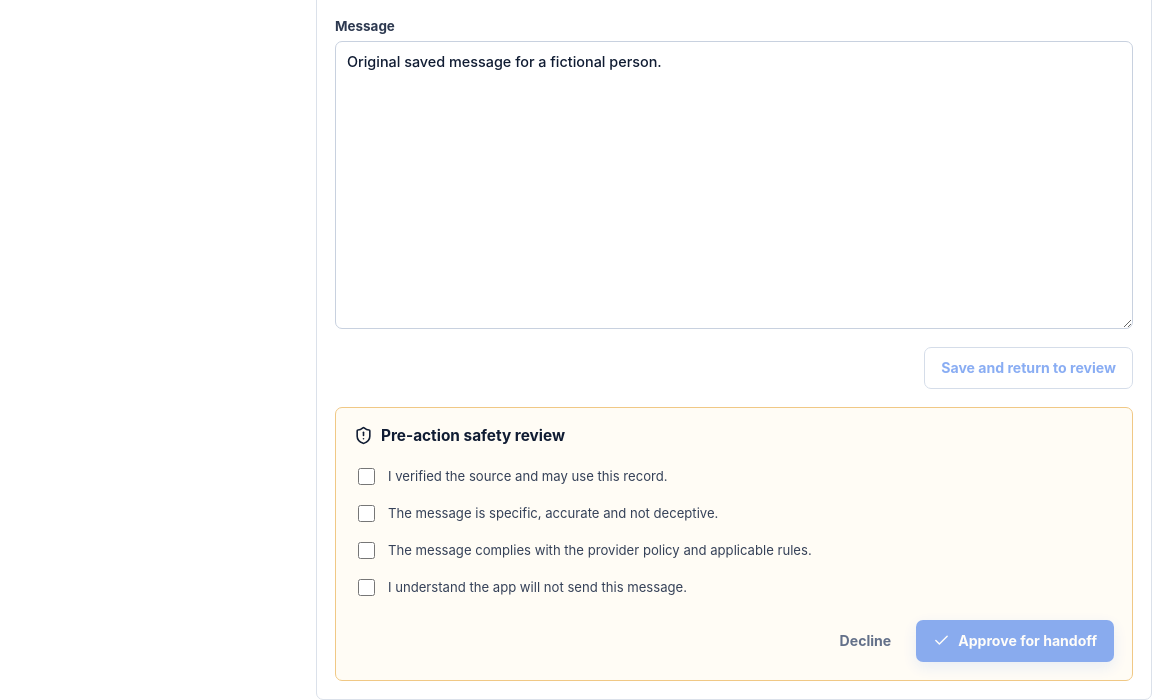
Scenario: version-bound personal draft saving › sends the viewed edit version and accepts only an exact saved message
(page scrolled)
Expected: the text box labelled "Message" is shown, [335,41,1133,329]
Expected: the button "Save and return to review" is disabled, [924,347,1133,389]
Step 1. Click the checkbox labelled "I verified the source and may use this record." → [366, 476], box [358,468,375,485]
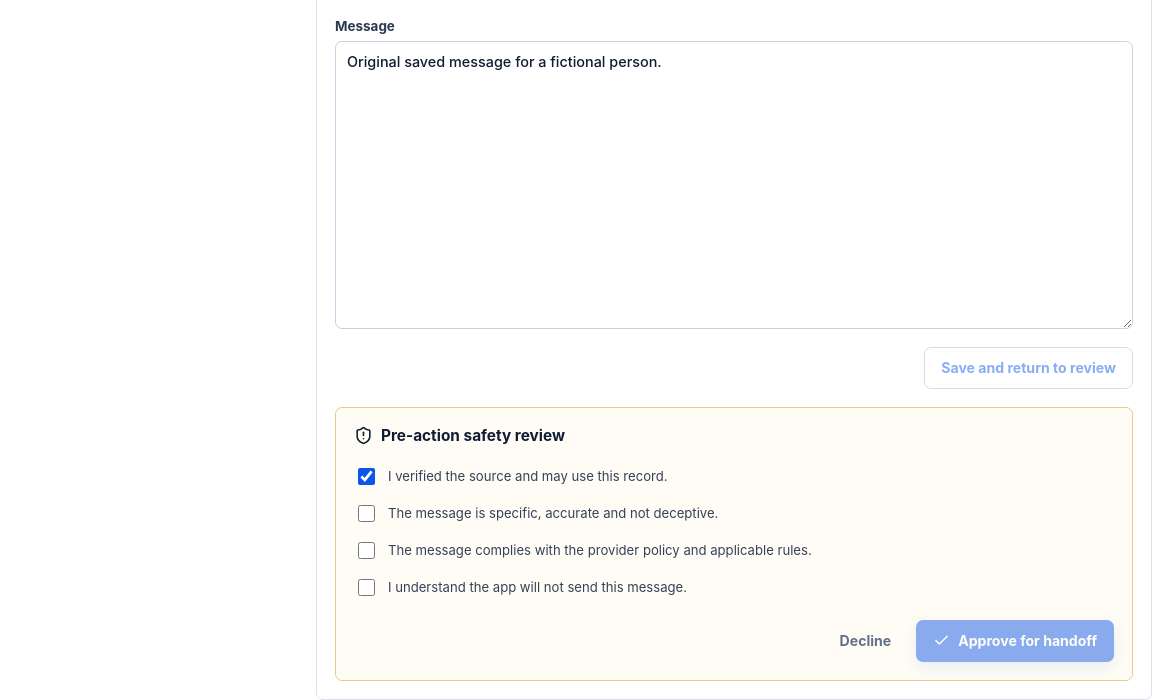
Step 2. Click the checkbox labelled "The message is specific, accurate and not deceptive." → [366, 513], box [358,505,375,522]
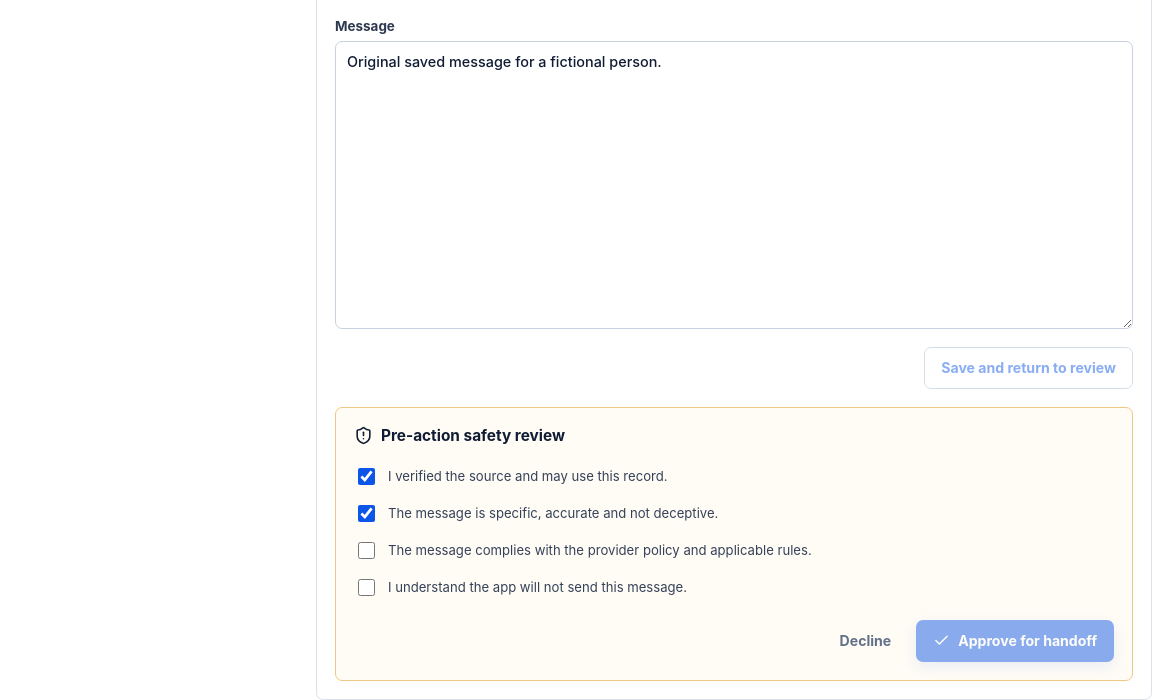
Step 3. Click the 3rd checkbox → [366, 550], box [358,542,375,559]
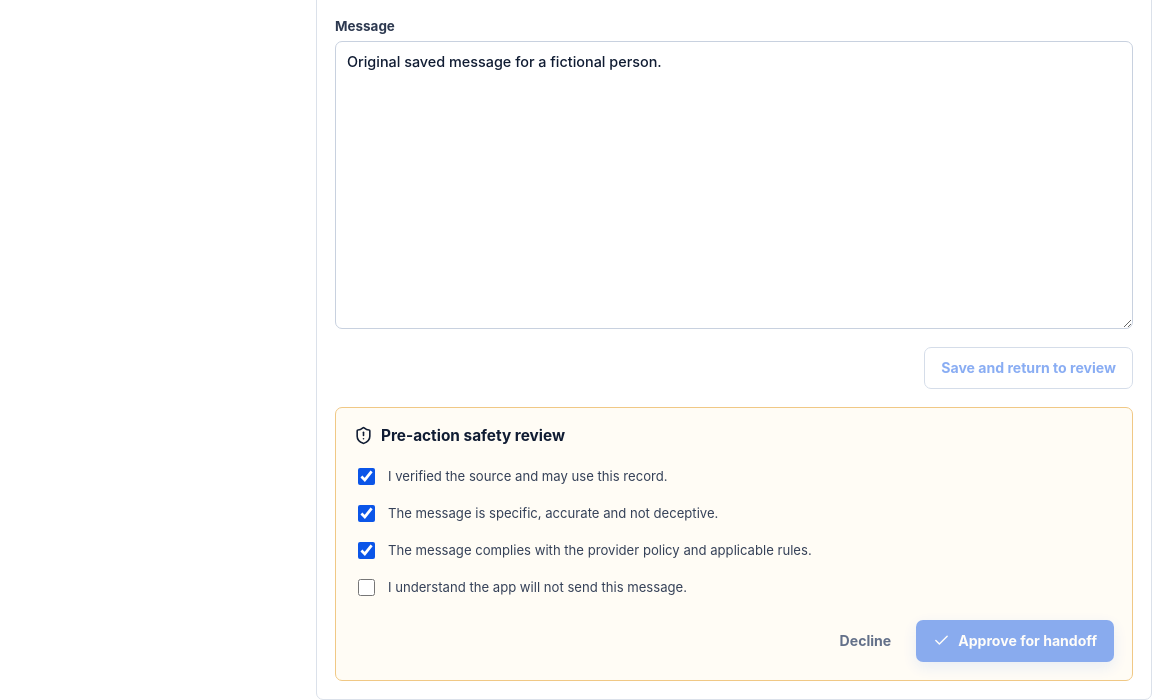
Step 4. Click the checkbox labelled "I understand the app will not send this message." → [366, 587], box [358,579,375,596]
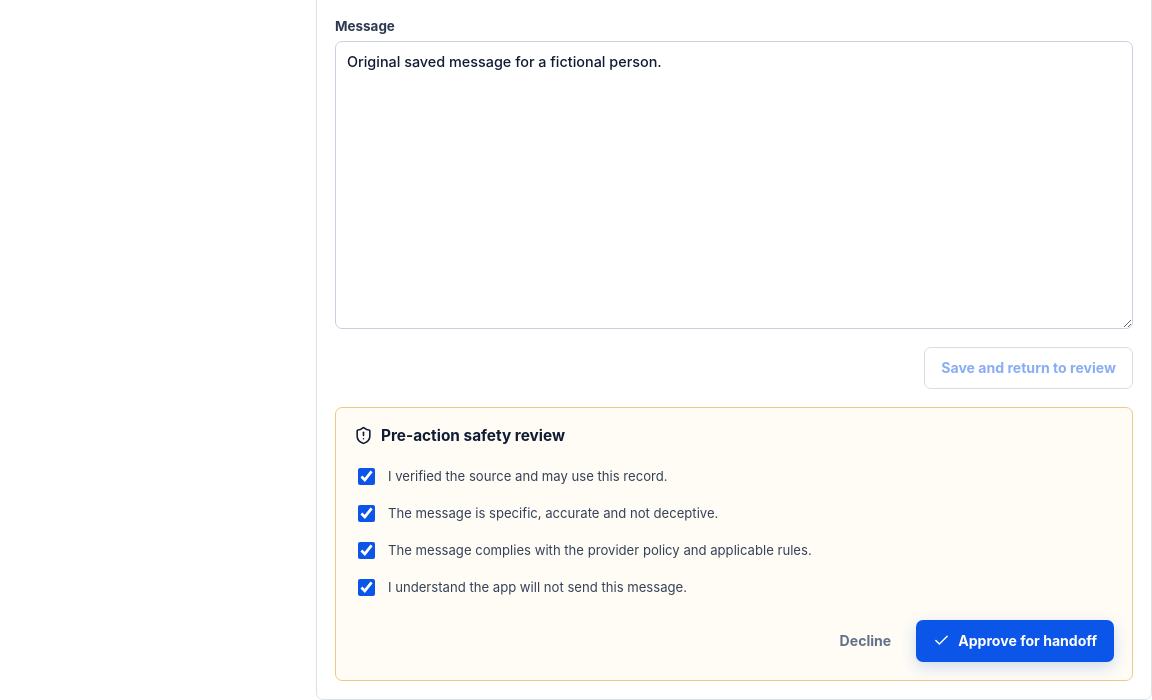
Step 5. Replace the text in the text box labelled "Message" with "My unsaved personalized message stays in this editor." → [734, 185], box [335,41,1133,329]
(page scrolled)
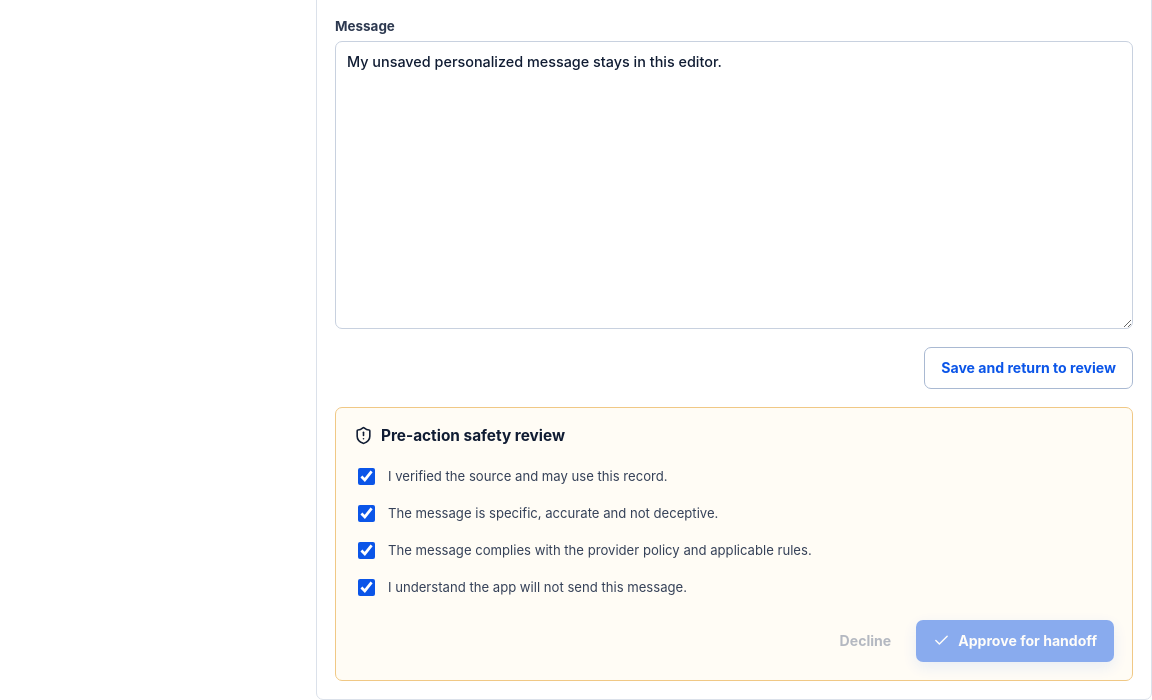
Step 6. Click the button "Save and return to review" → [1029, 368], box [924,347,1133,389]
(page scrolled)
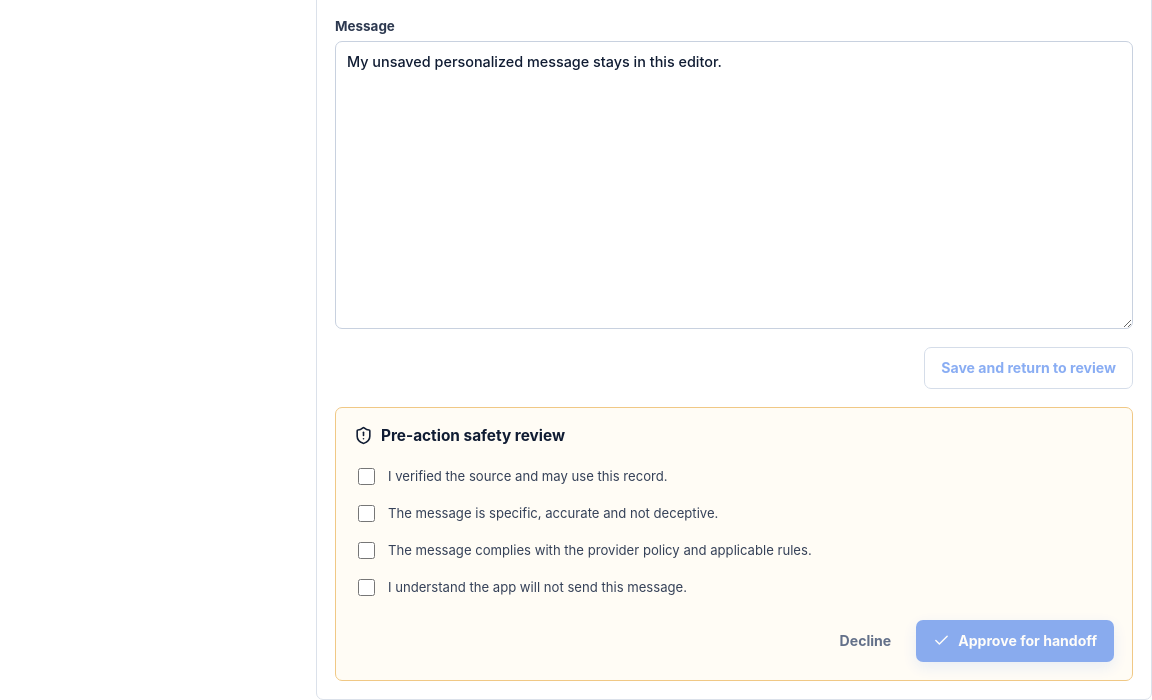
Now the button "Save and return to review" is disabled, box [924,347,1133,389]
